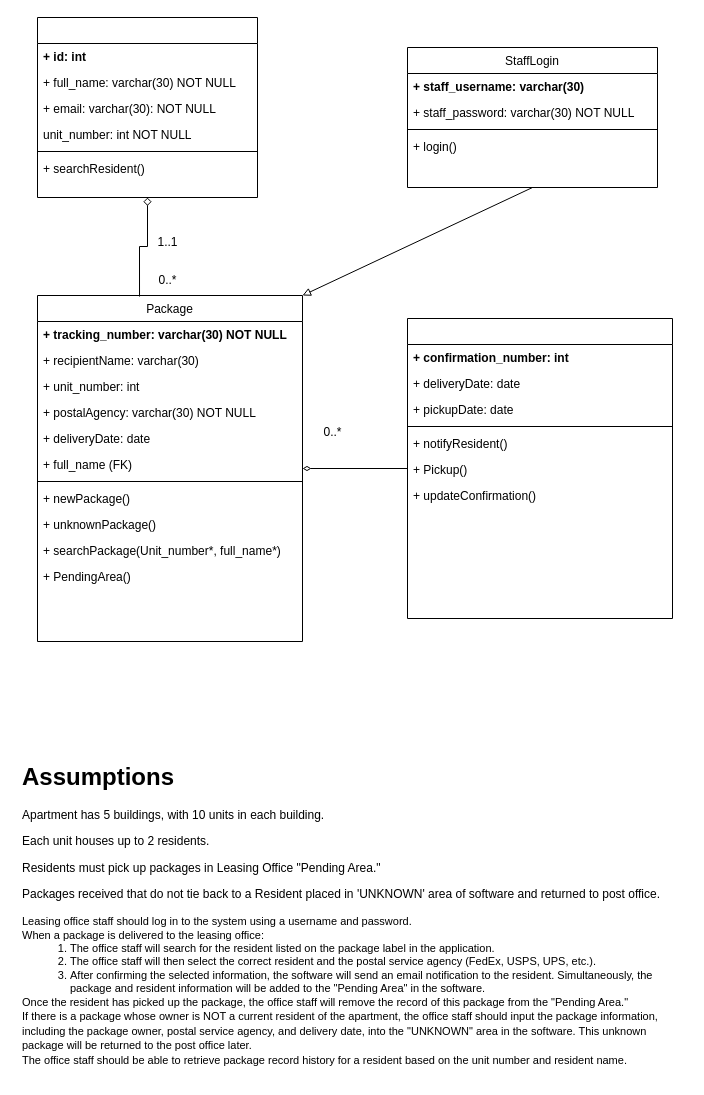
Image size: 704x1095. Some labels were removed from this diagram. Each missing label, with the box of its shape:
ReceiptConfirmation: (406, 318, 672, 618)
Residents: (36, 16, 258, 198)
